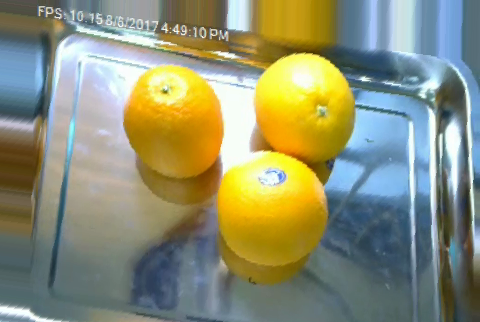Orange: (217, 150, 328, 267), (122, 62, 223, 178), (253, 50, 355, 162)
